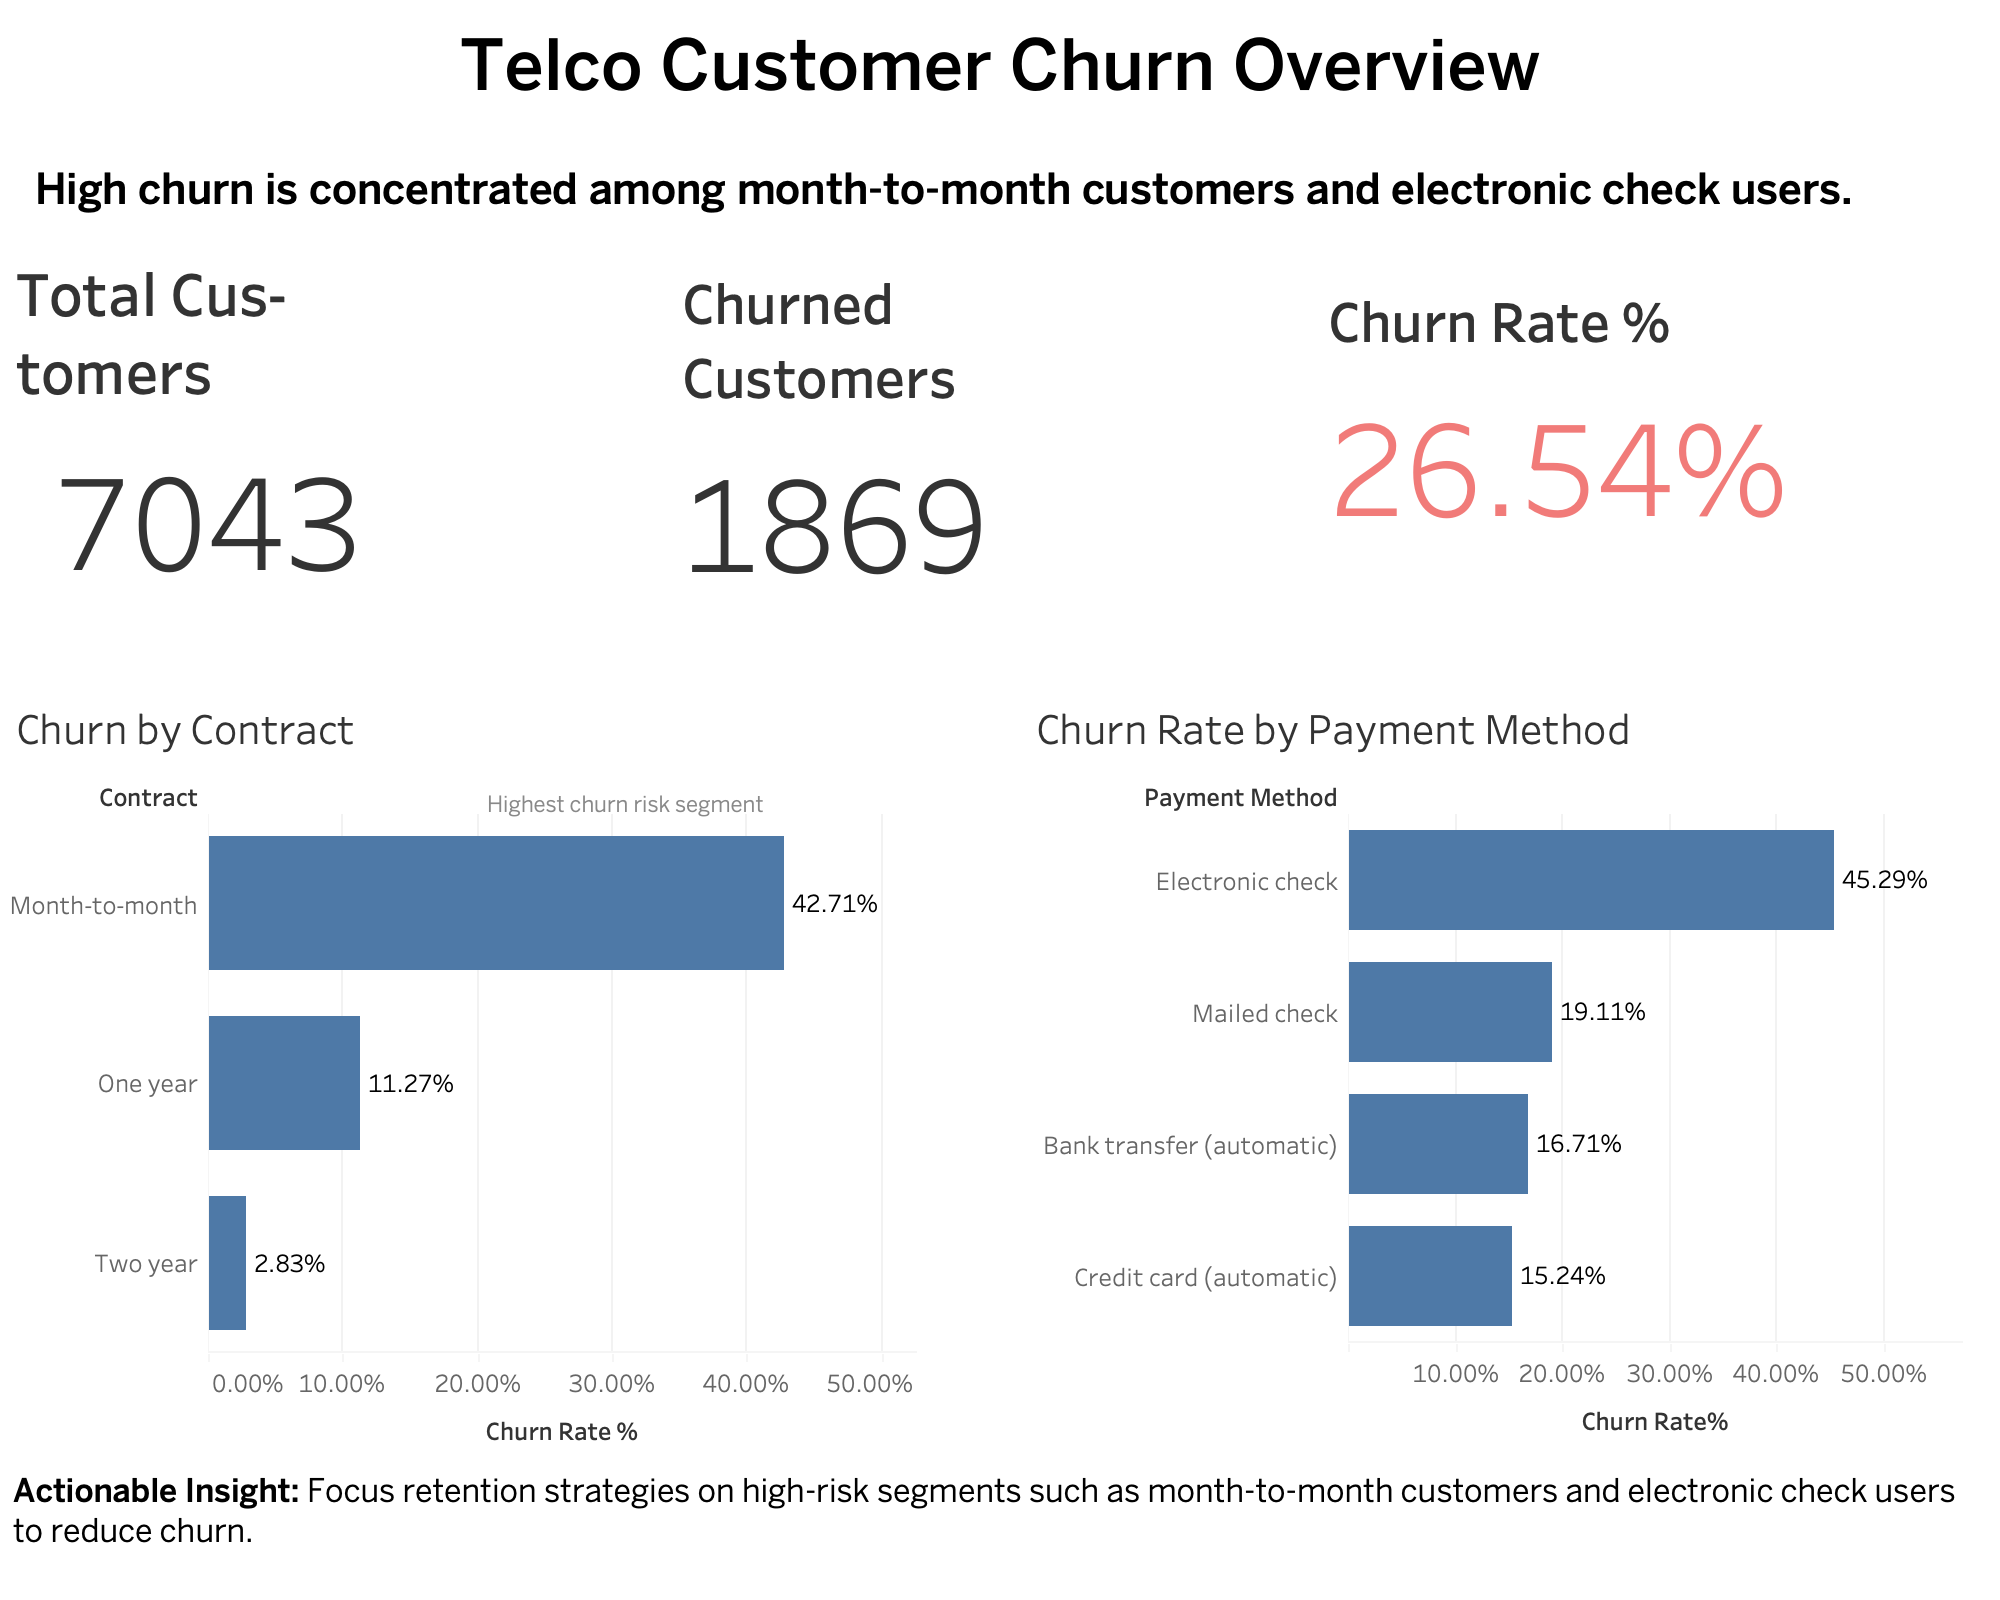

What the dashboard file says about the page in this screenshot:
{"tool":"tableau","page":{"name":"Customer Churn Overview","canvas":[1000,800],"ordinal":0},"visuals":[{"type":"title","box":[8,8,984,50]},{"type":"worksheet","title":"Total Customers","mark":"Text","box":[9,106,333,266]},{"type":"worksheet","title":"Churned Customers","mark":"Text","box":[354,107,333,266]},{"type":"worksheet","title":"Churn by Contract","mark":"Bar","rows":["Contract"],"cols":["Calculation_0336431741014016"],"box":[16,410,454,387]},{"type":"worksheet","title":"Churn by Payment Method","mark":"Bar","rows":["PaymentMethod"],"cols":["Calculation_0336431744106501"],"box":[517,420,467,382]}]}

Visuals, with their boxes in screenshot pixels (x1, y1, x2, y2), scaled from the page's 1000x800 canvas onto the 2000x1600 screenshot:
title: (left=16, top=16, right=1984, bottom=116)
"Total Customers" worksheet (Text marks): (left=18, top=212, right=684, bottom=744)
"Churned Customers" worksheet (Text marks): (left=708, top=214, right=1374, bottom=746)
"Churn by Contract" worksheet (Bar marks): (left=32, top=820, right=940, bottom=1594)
"Churn by Payment Method" worksheet (Bar marks): (left=1034, top=840, right=1968, bottom=1599)
